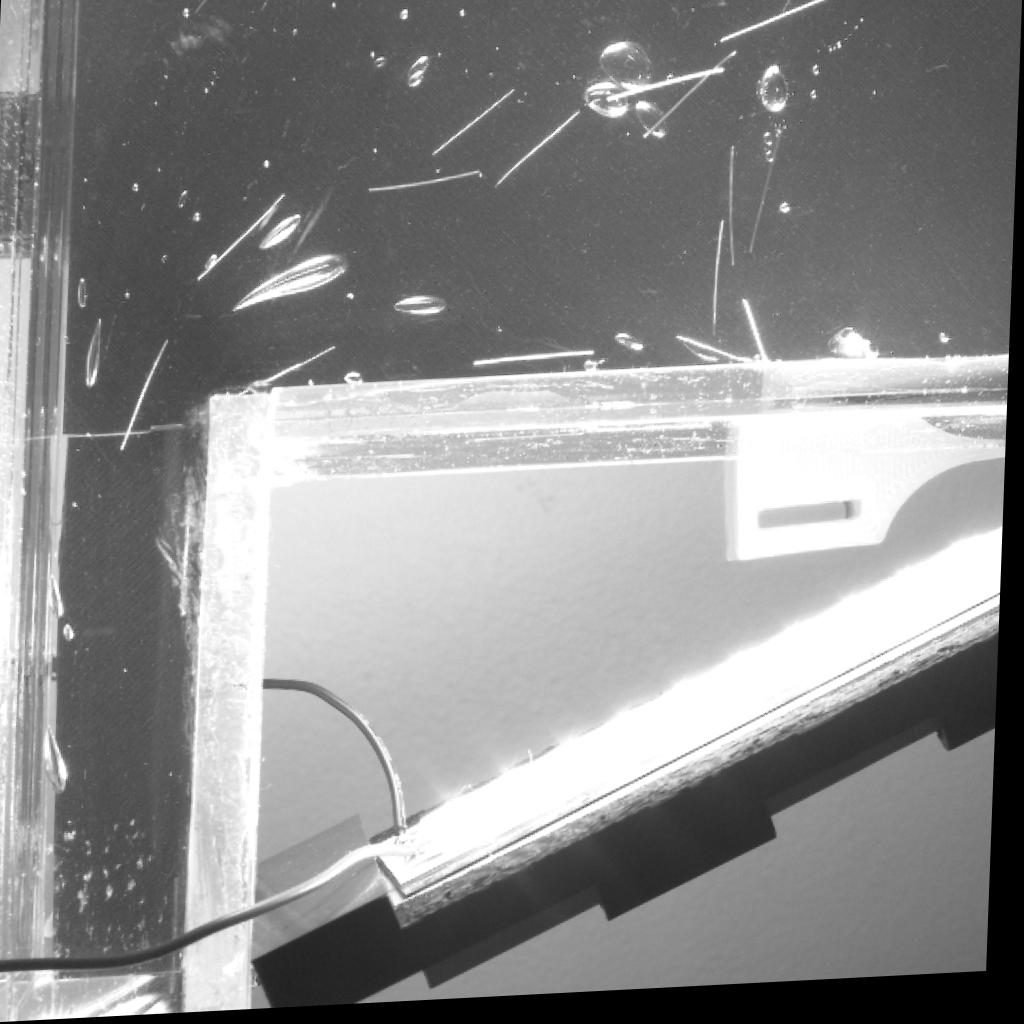Fiber: (639, 53, 743, 148), (192, 192, 290, 290), (490, 111, 587, 198), (114, 334, 174, 457), (430, 92, 520, 167), (232, 343, 343, 403), (714, 3, 831, 57), (744, 135, 787, 267), (607, 69, 727, 114), (365, 172, 483, 203), (671, 338, 760, 379), (738, 302, 779, 376), (471, 352, 599, 375), (169, 878, 191, 1006), (708, 224, 727, 344), (725, 149, 738, 277), (182, 507, 193, 632), (770, 0, 800, 34), (185, 0, 213, 21), (251, 0, 275, 18)
